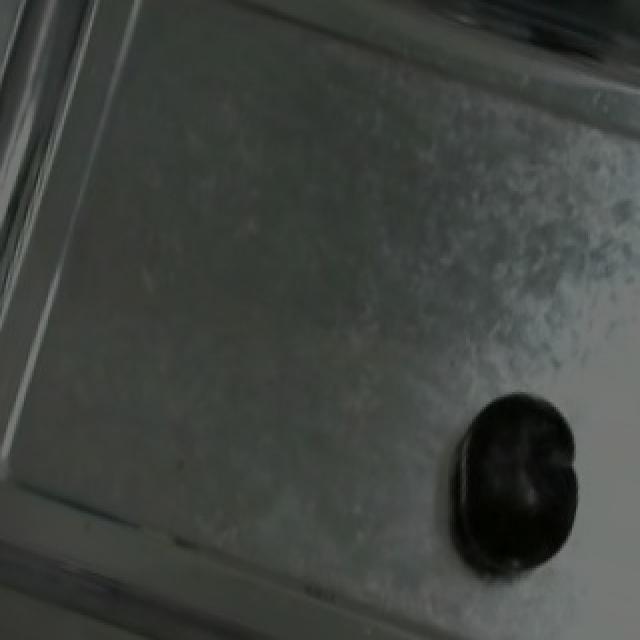Fruit: (446, 379, 590, 583)
